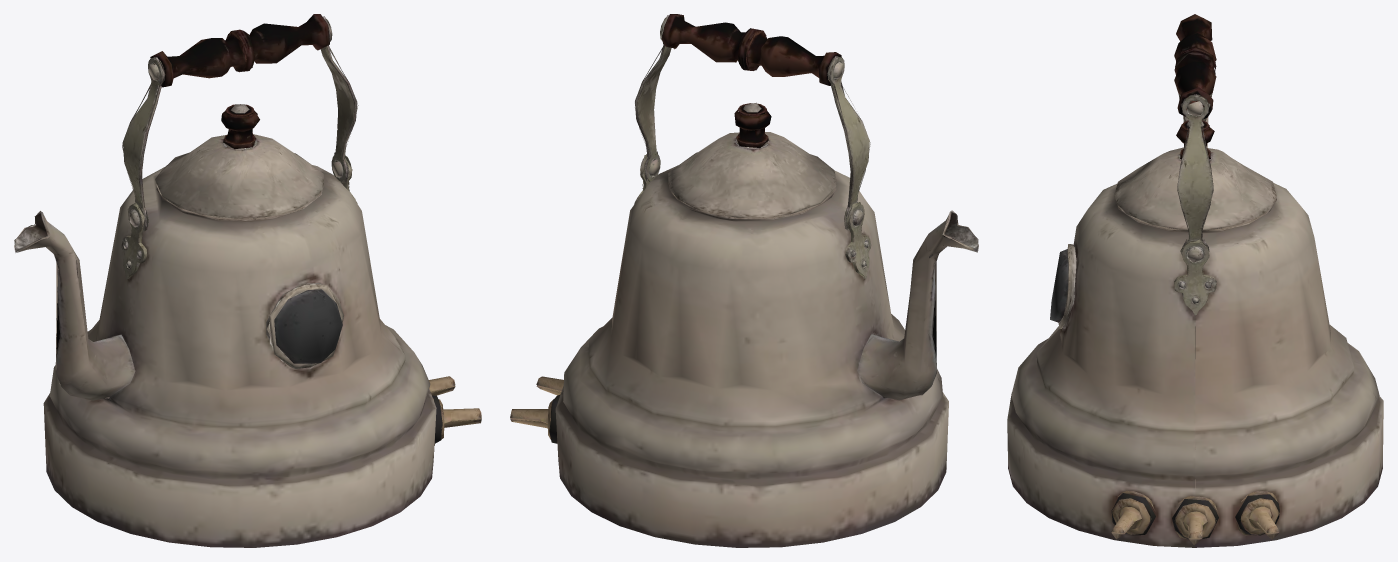
The model's file is vintage_electric_kettle.glb.
The picture shows the model from 3 angles, left to right: view 1: azimuth 30°, elevation 25°; view 2: azimuth 150°, elevation 25°; view 3: azimuth 270°, elevation 25°; orthographic projection. The views are drawn at different scales.
Parts seen in each view (by area): view 1: vintage_electric_kettle; view 2: vintage_electric_kettle; view 3: vintage_electric_kettle.
Boxes of the visible parts, <box> form: vintage_electric_kettle: <box>14,14,481,547</box>; vintage_electric_kettle: <box>510,14,978,547</box>; vintage_electric_kettle: <box>1007,14,1383,547</box>.
Size of the model in its own units: 0.321 by 0.3059 by 0.2478.
Materials: 2 (2 with a texture image).
